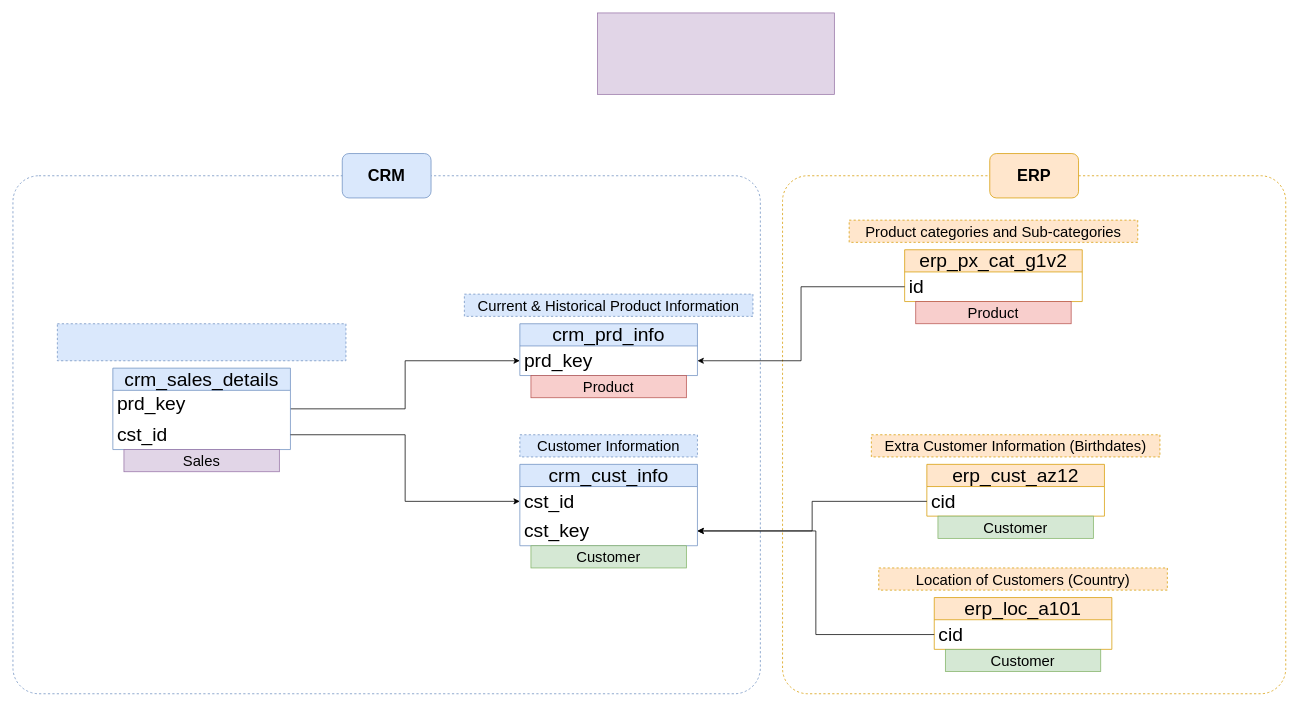
The diagram is 1299 pixels wide and 707 high, and some of its shapes have lost their labels. The shapes that lost their labels are listed below. From the top down, each one's centre as x and y in pixels, then its label:
At (x=715, y=53): "Integration Model (How 2 tables are related)".
At (x=201, y=342): "Transactional Records about Sales & Orders".
